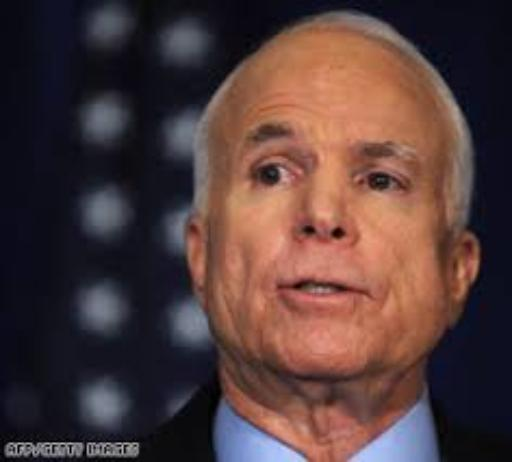left_eye: (354, 172, 413, 196)
left_lip_corner: (353, 284, 382, 303)
right_eye: (251, 163, 303, 189)
right_lip_corner: (269, 279, 292, 302)
